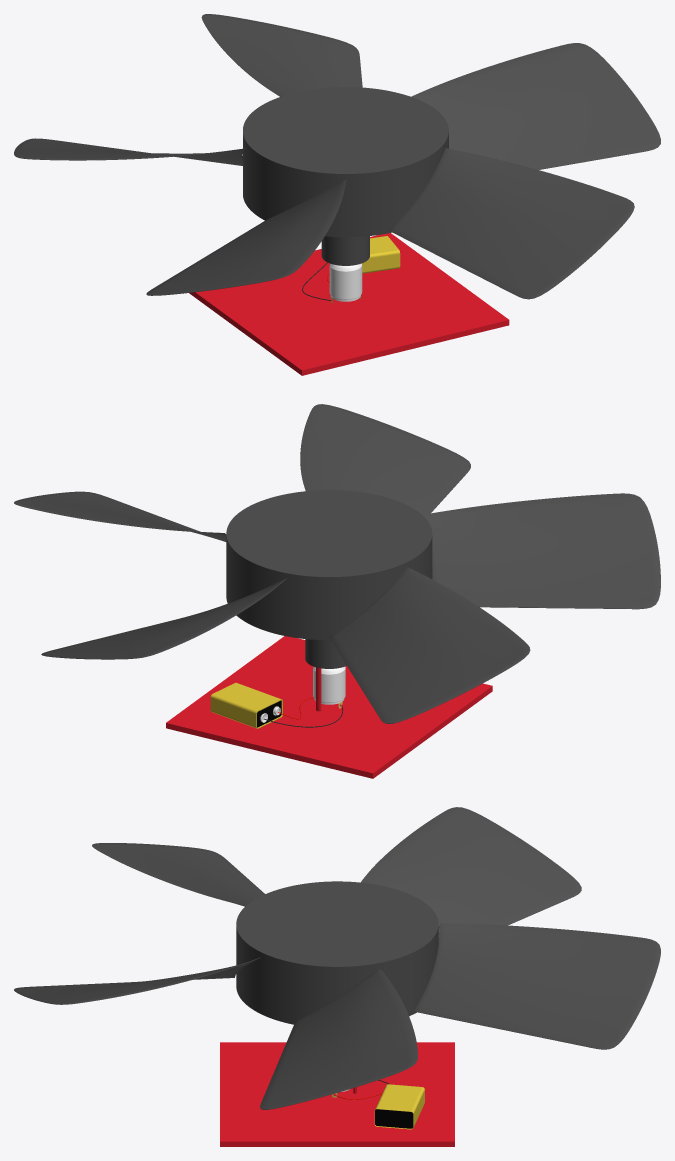
Rendered from fan.fbx.
3 views of the same model, one above another, from view 1: azimuth 30°, elevation 25°; view 2: azimuth 150°, elevation 25°; view 3: azimuth 270°, elevation 25° (orthographic).
Parts seen in each view (by area): view 1: Fan, Cube.006, Cylinder.012, Cube.007; view 2: Fan, Cube.006, Cube.007, Cylinder.012; view 3: Fan, Cube.006, Cube.007.
Part boxes in pixels (<box>): Fan: <box>14,14,660,299</box>; Cube.006: <box>189,233,509,375</box>; Cylinder.012: <box>329,263,362,303</box>; Cube.007: <box>362,236,400,273</box>; Fan: <box>14,404,660,723</box>; Cube.006: <box>166,636,492,778</box>; Cube.007: <box>210,682,282,728</box>; Cylinder.012: <box>313,666,345,708</box>; Fan: <box>14,807,660,1109</box>; Cube.006: <box>220,1042,454,1146</box>; Cube.007: <box>374,1084,424,1129</box>.
Bounding box in the file's own units: 1.8 × 0.551 × 1.87.
